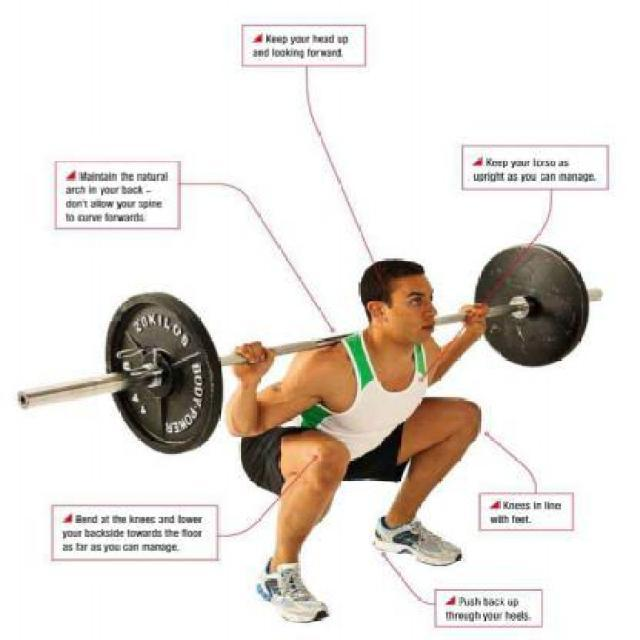barbell: (13, 288, 216, 457)
